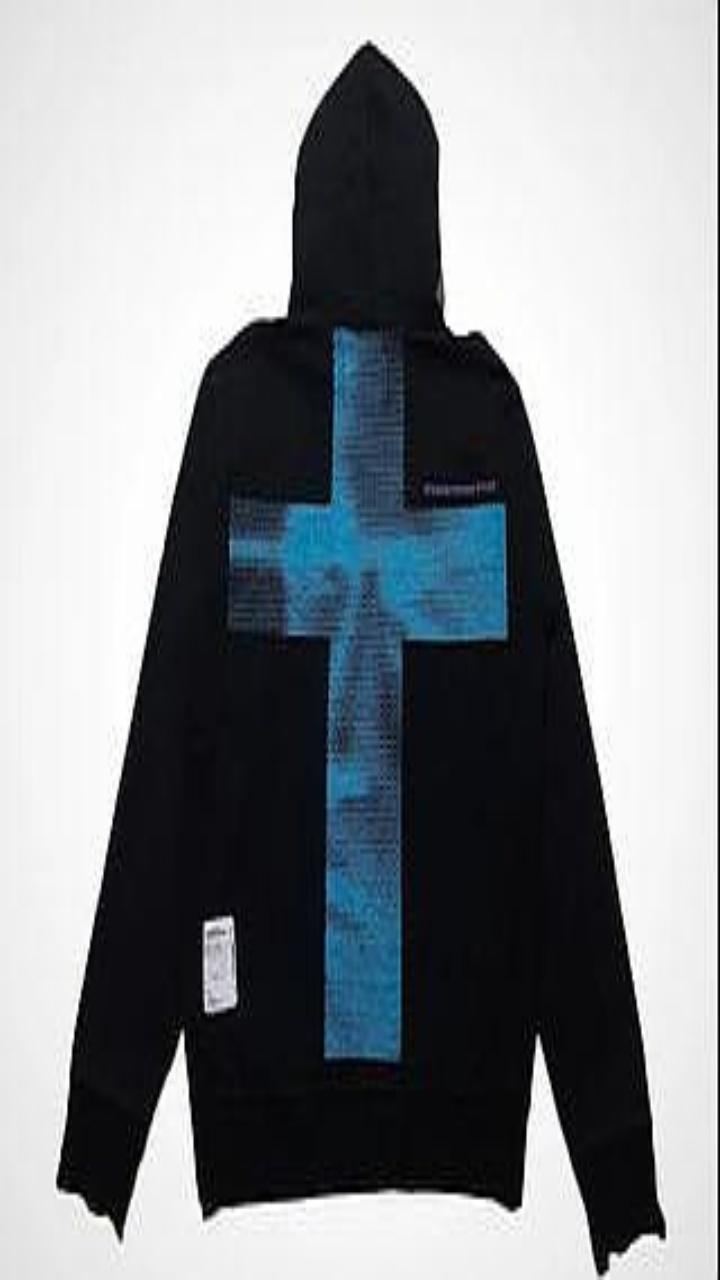Sports_Jacket: (57, 42, 665, 1273)
